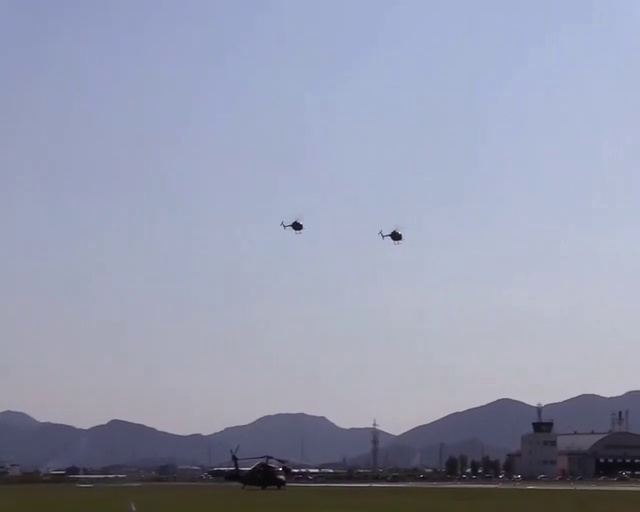HELICOPTER: (280, 218, 303, 233)
